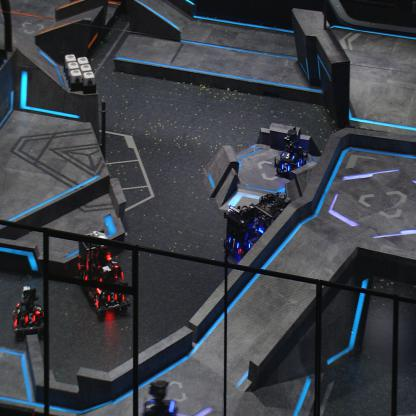car: (248, 192, 293, 266), (76, 229, 123, 291), (89, 263, 132, 319), (12, 285, 48, 339), (222, 205, 256, 260), (273, 127, 308, 180), (140, 378, 179, 416)
